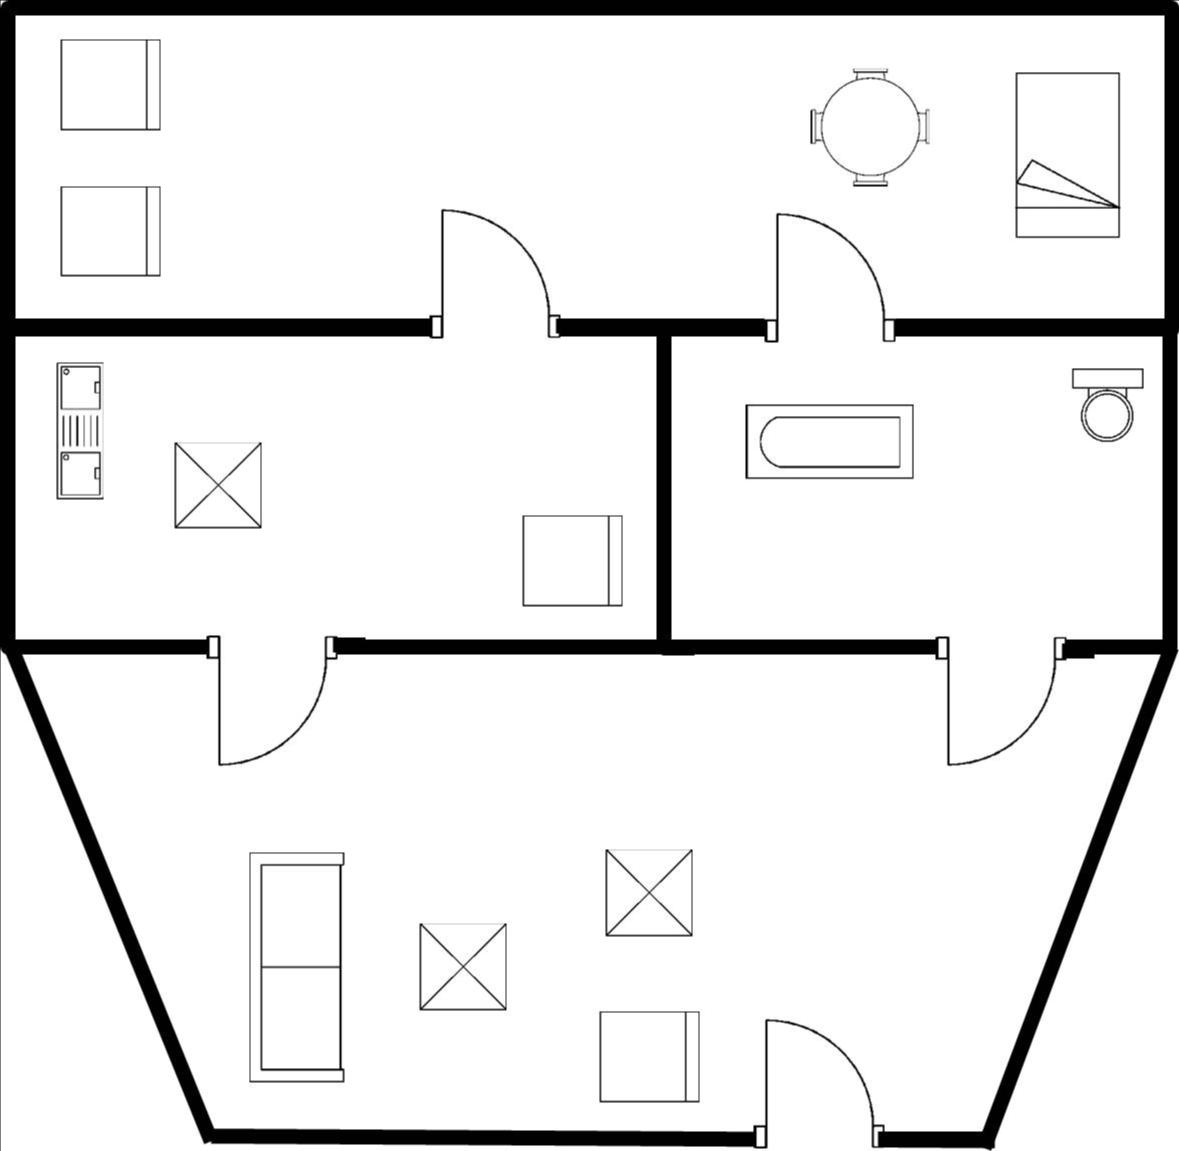bed: (1001, 63, 1129, 247)
round_table: (804, 58, 938, 195)
sofa: (237, 842, 354, 1093), (513, 504, 628, 618)
toilet: (1061, 363, 1148, 450)
tub: (736, 395, 920, 486)
